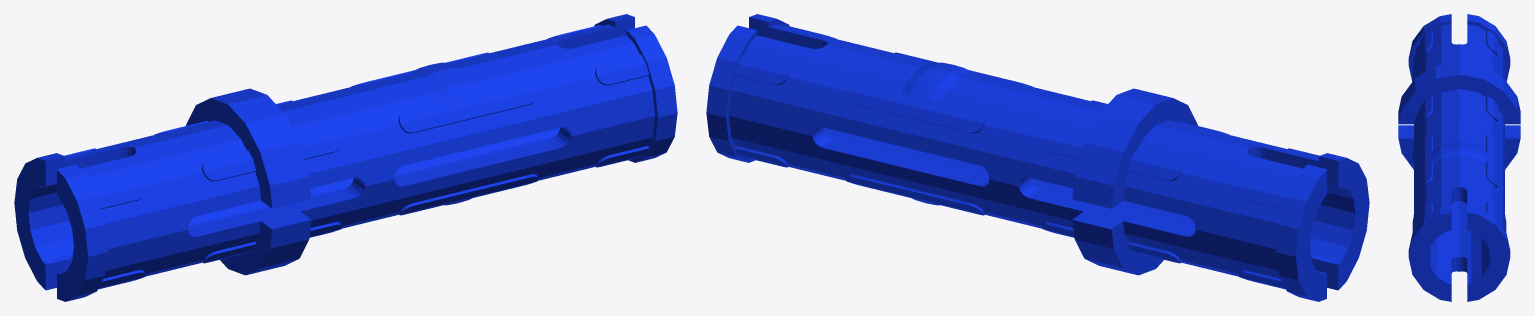
The model's file is connector_peg_3M.dae.
The picture shows the model from 3 angles, left to right: view 1: azimuth 30°, elevation 25°; view 2: azimuth 150°, elevation 25°; view 3: azimuth 270°, elevation 25°; orthographic projection. The views are drawn at different scales.
Parts seen in each view (by area): view 1: node; view 2: node; view 3: node.
Boxes of the visible parts, box(x1,y1,x2,y2) form: node: box(14, 14, 677, 301); node: box(706, 14, 1369, 301); node: box(1398, 14, 1520, 301).
Size of the model in its own units: 60 by 16 by 15.6.
Materials: 1 (1 with a texture image).
